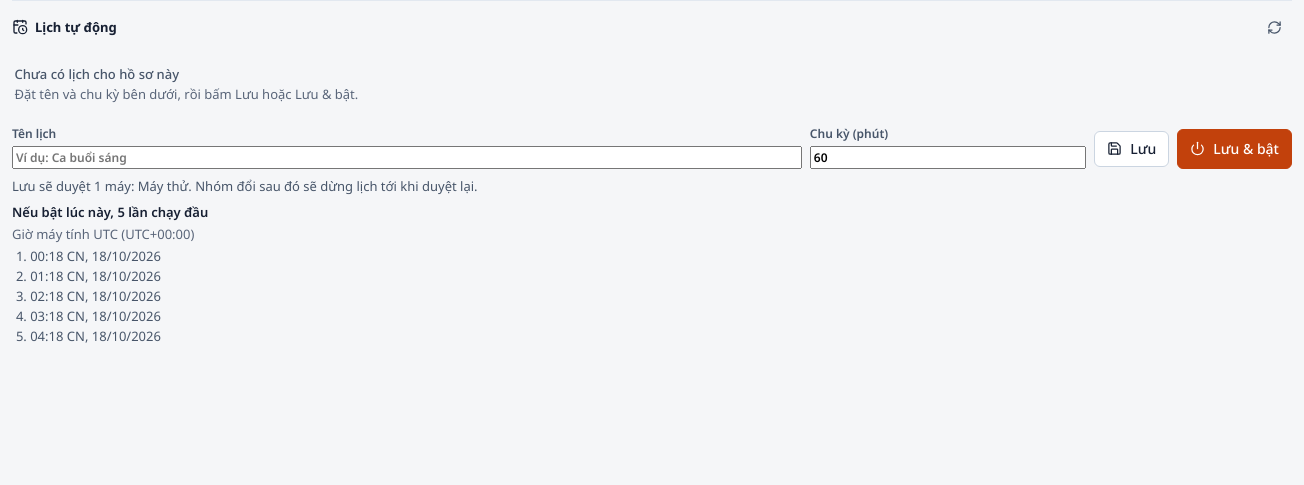
it: AutomationScheduleControl › creates a typed interval schedule pinned to the selected profile revision
The image size is (1304, 485).
Expected: the text "Chưa có lịch cho hồ sơ này" is shown, [14,65,179,83]
Expected: the text "Lưu sẽ duyệt 1 máy: Máy thử" is shown, [12,177,478,195]
Type "Lịch buổi sáng" into the field named "Tên lịch mới" at point(407, 157), box [12,146,802,169]
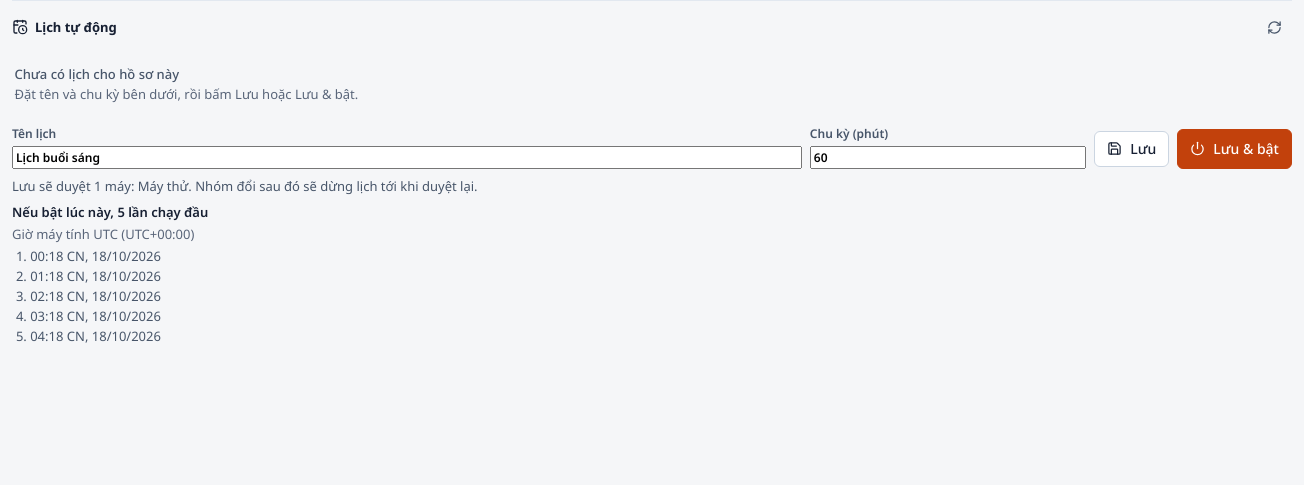
Replace the text in the number field named "Chu kỳ lịch mới (phút)" with "30" at point(948, 157), box [810,146,1086,169]
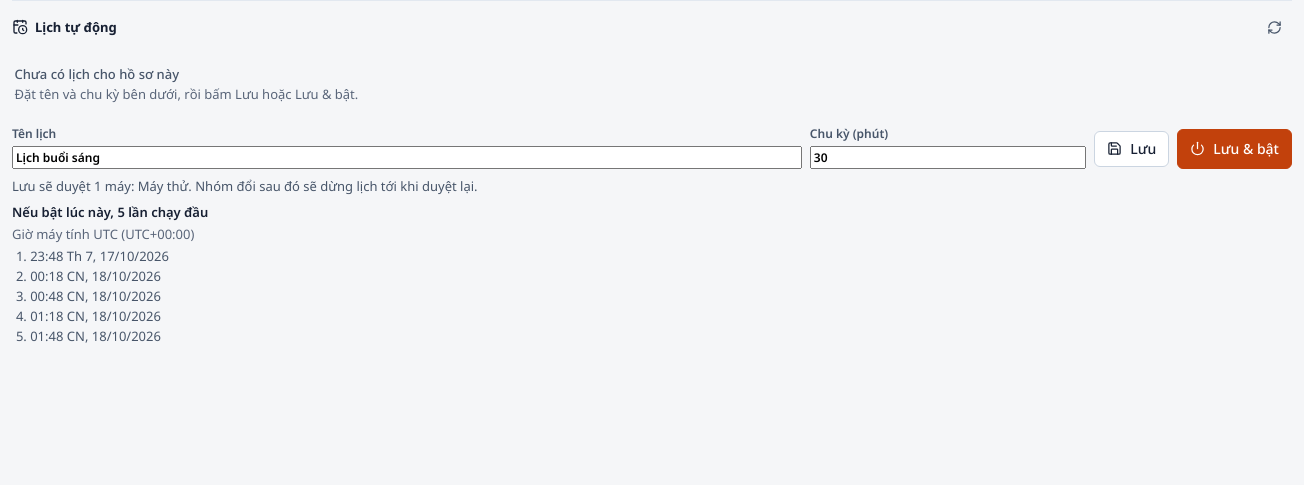
Click the button with aria-label "Lưu & bật lịch" at point(1235, 149), box [1177,129,1292,169]
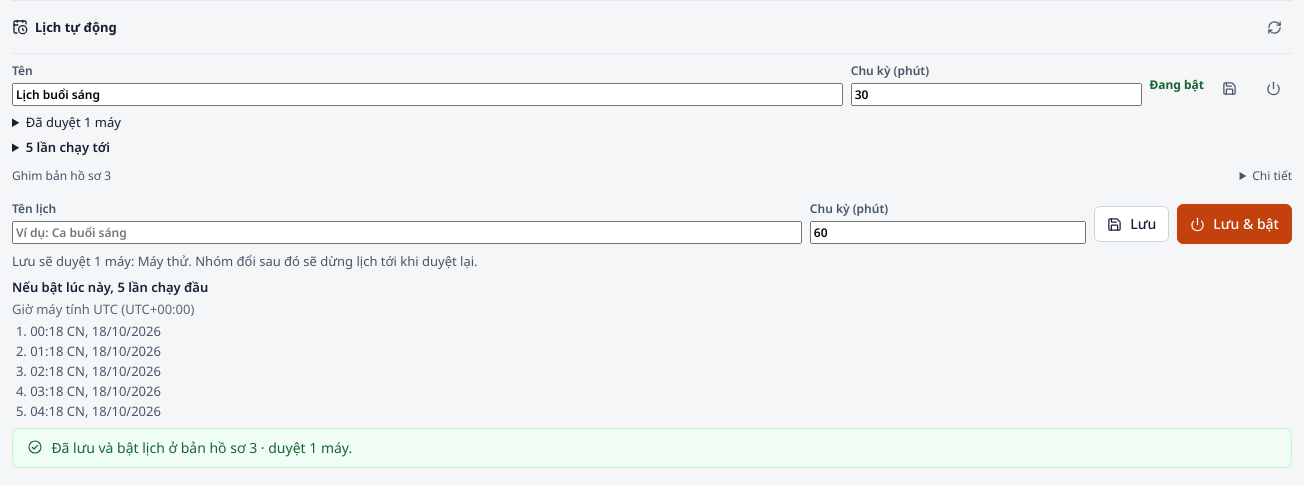
Expected: the text "Đã lưu và bật lịch ở bản hồ sơ 3 · duyệt 1 máy." is shown, [51,438,352,457]
